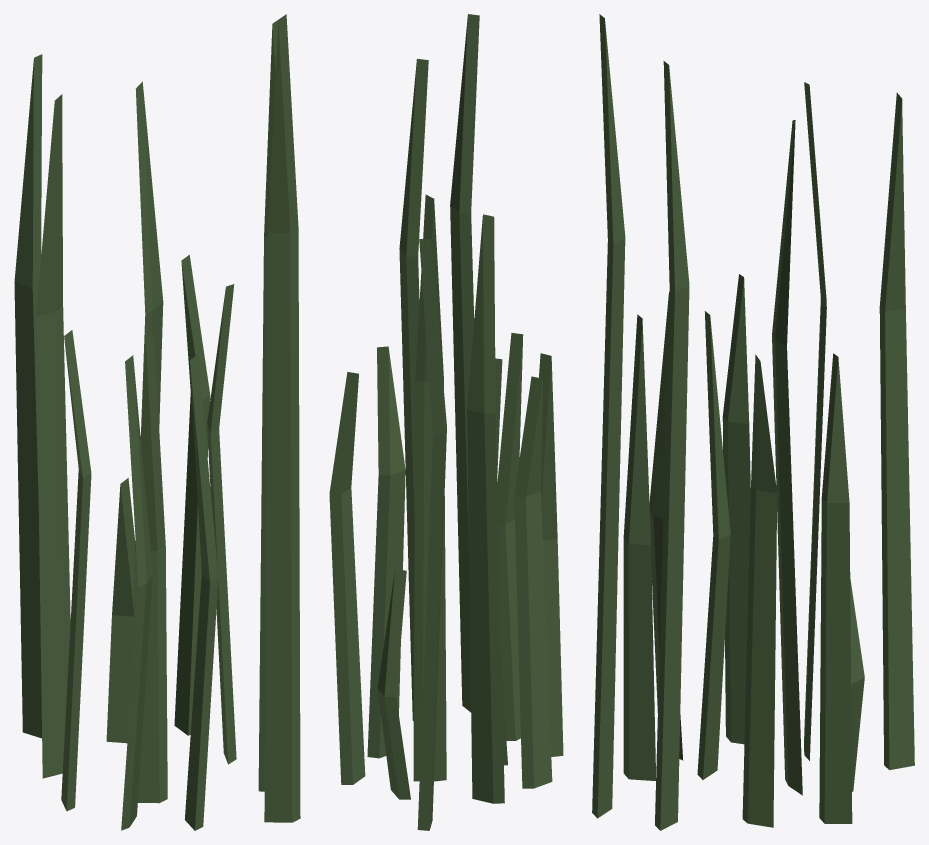
The model's file is grass_2.glb.
3 renders of one model, left to right at view 1: azimuth 30°, elevation 25°; view 2: azimuth 150°, elevation 25°; view 3: azimuth 270°, elevation 25°, orthographic. The views are drawn at different scales.
Visible parts, largest first — view 1: grass_2; view 2: grass_2; view 3: grass_2.
Boxes of the visible parts, x1,y1,x2,y2 form: grass_2: (14, 14, 300, 830); grass_2: (329, 14, 563, 830); grass_2: (592, 14, 914, 830).
Bounding box in the file's own units: 0.1581 × 0.6006 × 0.2209.
Materials: 1 (1 with a texture image).
